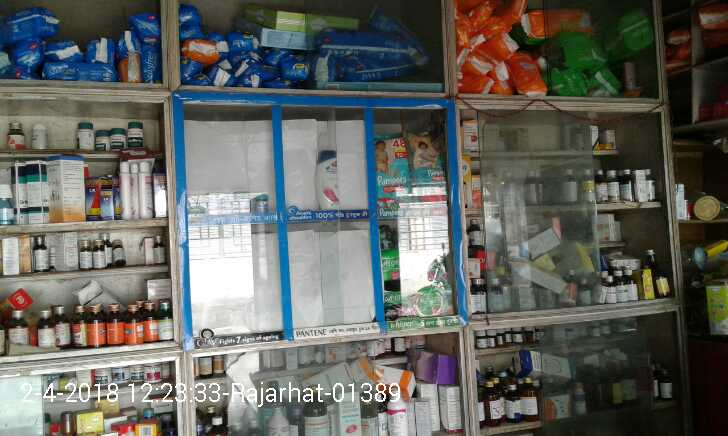vicks: (250, 191, 270, 214)
